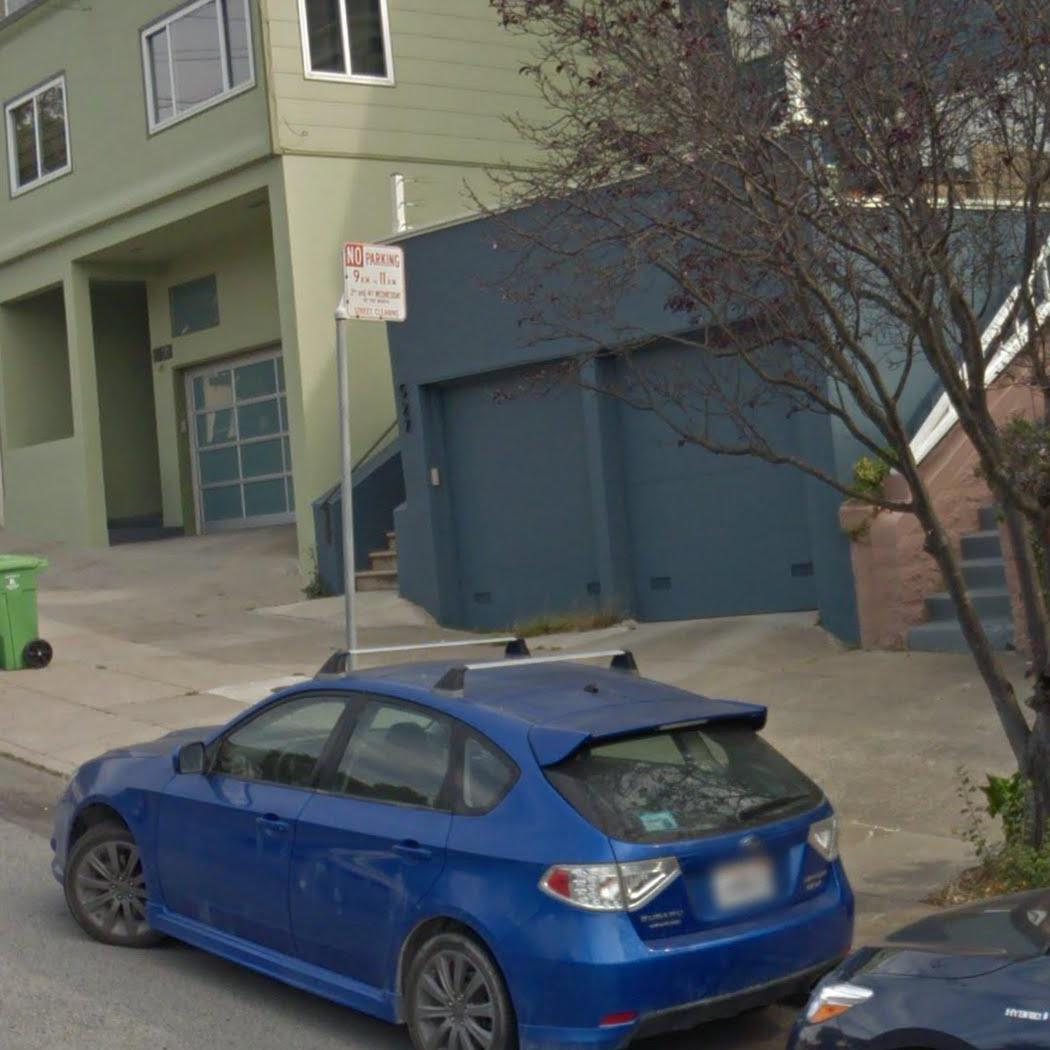No Parking: (341, 239, 407, 323)
